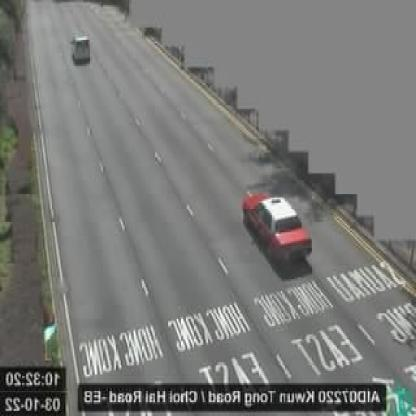Car: (242, 189, 312, 262), (74, 34, 94, 60)
